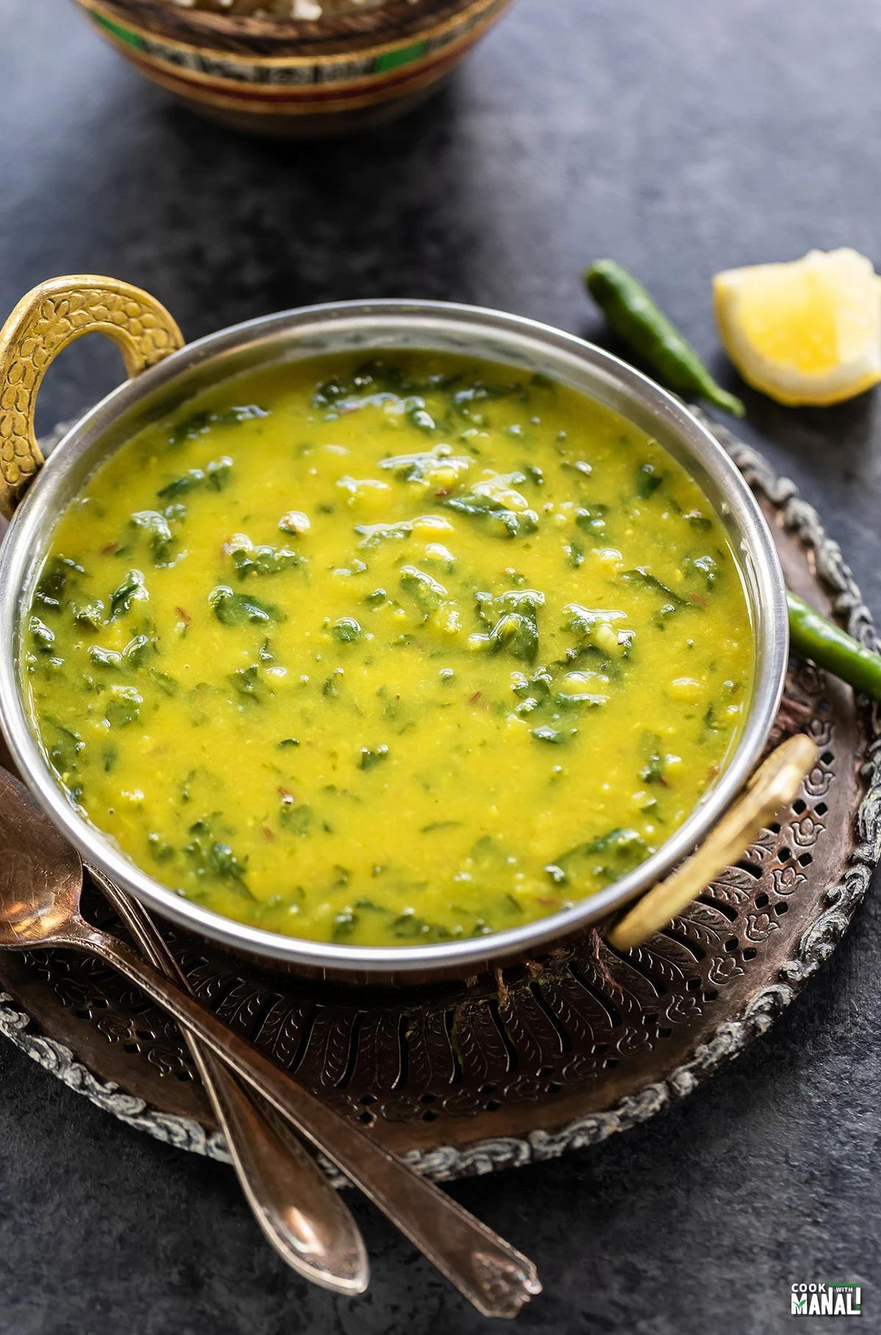dal: (26, 352, 749, 956)
